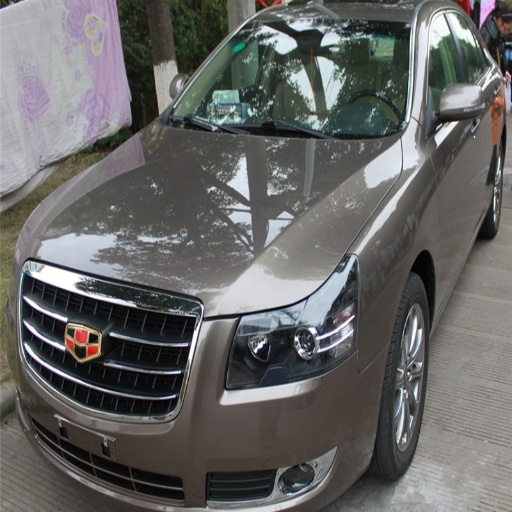front_bumper: (23, 263, 380, 511)
front_glass: (169, 25, 411, 135)
front_left_door: (424, 3, 472, 263)
